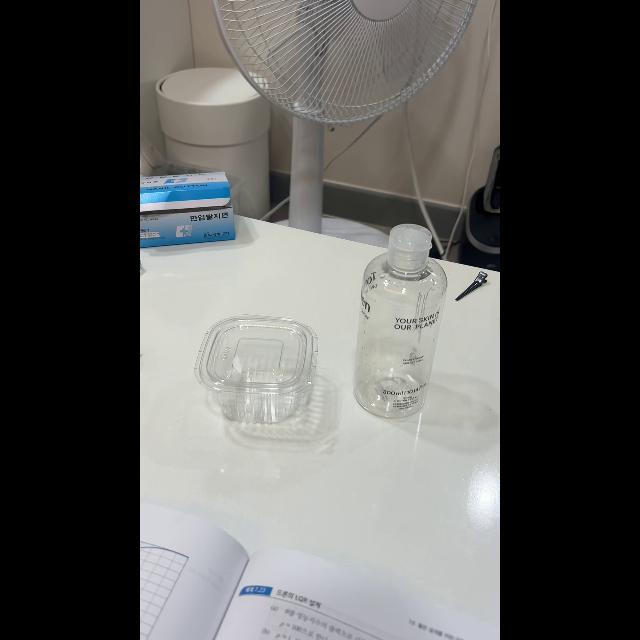clean: (353, 230, 449, 412), (195, 316, 318, 422)
